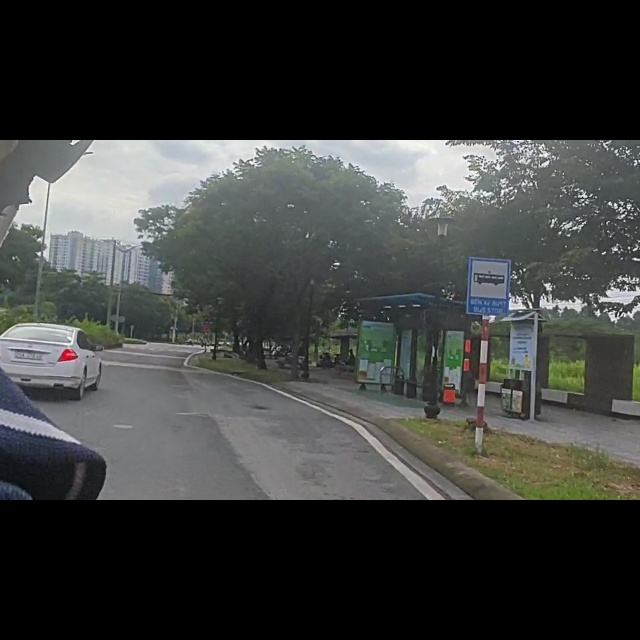bien_hieu_lenh: (463, 196, 516, 326)
